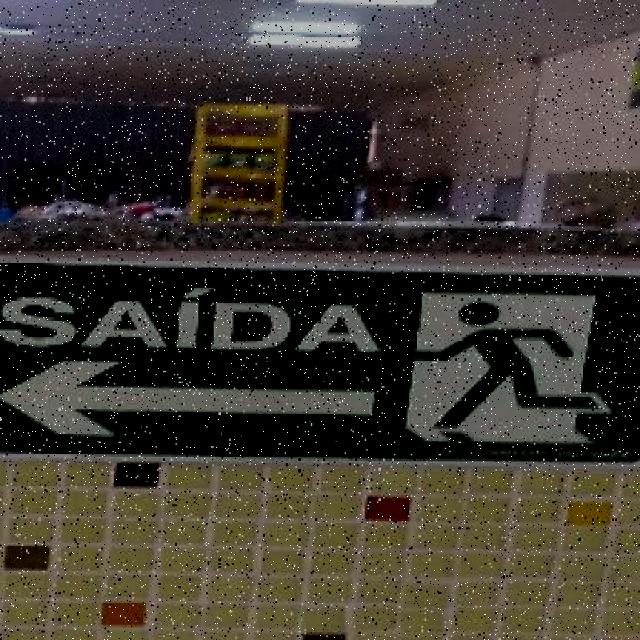emergency_exit: (1, 259, 639, 465), (188, 101, 289, 226)
